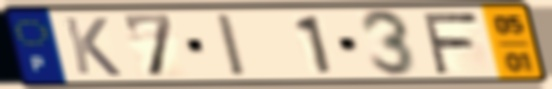1: (293, 13, 335, 76)
3: (359, 6, 419, 82)
7: (119, 12, 177, 80)
F: (418, 10, 482, 76)
I: (212, 12, 250, 79)
K: (60, 15, 125, 78)
